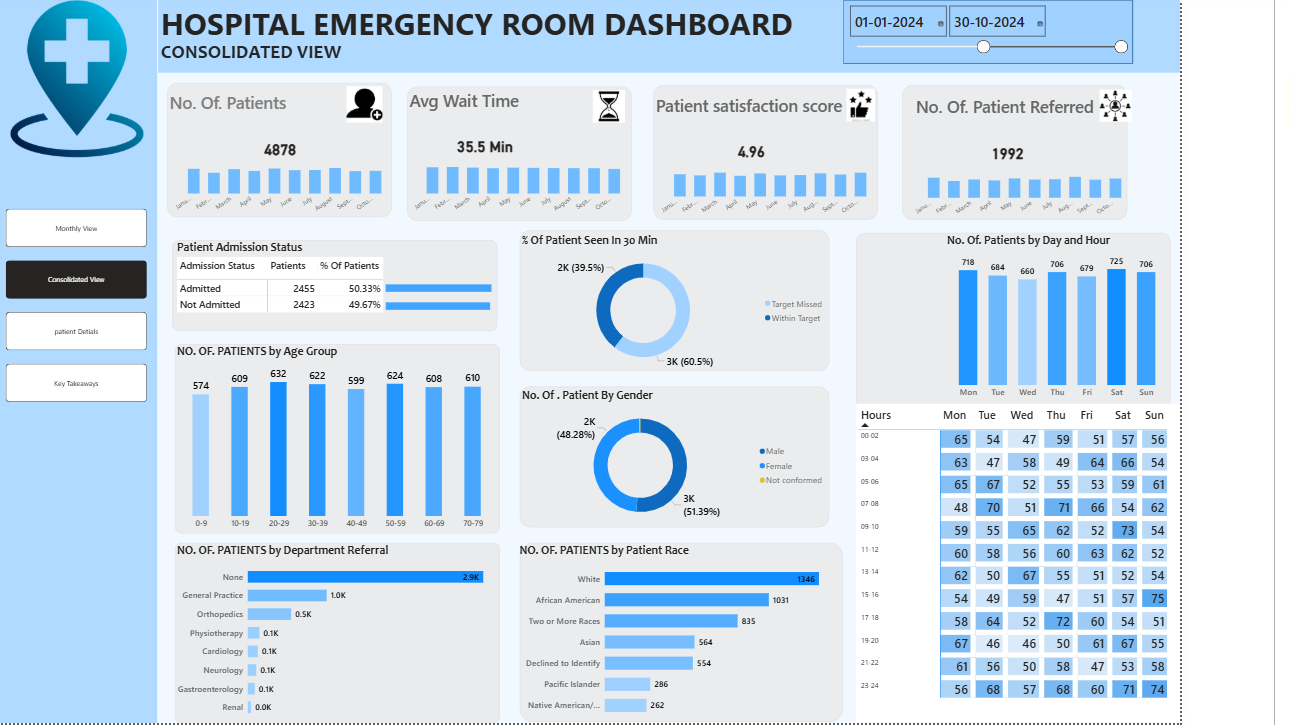

What the dashboard file says about the page in this screenshot:
{"tool":"powerbi","page":{"name":"Consolidated View","canvas":[2300,1400],"ordinal":1},"visuals":[{"type":"shape","box":[1671.4,449.9,609.5,948.2],"z":0},{"type":"shape","box":[1020.7,747.4,599.9,273.3],"z":1000},{"type":"shape","box":[348.3,464.4,630,177],"z":2000},{"type":"pivotTable","title":"Patient Admission Status","fields":{"Rows":["Hospital ER_Data.Admission Status"],"Values":["Hospital ER_Data.NO. OF. PATIENTS1","Hospital ER_Data.NO. OF. PATIENTS"]},"box":[352.5,465,625,177.5],"z":3000},{"type":"shape","box":[338.6,159.6,435.4,261.2],"z":4000},{"type":"shape","box":[9.9,0,310,1399],"z":5000},{"type":"shape","box":[320.5,0,1980,140.5],"z":6000},{"type":"textbox","box":[320.5,0,1260,91.2],"z":7000},{"type":"textbox","box":[320.5,71.5,364.9,69],"z":8000},{"type":"card","fields":{"Values":["Hospital ER_Data.NO. OF. PATIENTS"]},"box":[454.7,229.8,205.6,116.1],"z":9000},{"type":"slicer","fields":{"Values":["Date Table.Date"]},"box":[1647.1,0,559.7,123.3],"z":10000},{"type":"textbox","box":[338.6,171.7,256.4,58.1],"z":11000},{"type":"columnChart","fields":{"Y":["Hospital ER_Data.NO. OF. PATIENTS"],"Category":["Date Table.Month Name"]},"box":[337.8,305.7,436.4,115.9],"z":12000},{"type":"shape","box":[803,166.9,435.4,261.2],"z":13000},{"type":"card","fields":{"Values":["Date Table.Avg Wait Time"]},"box":[849,224.9,210.4,116.1],"z":14000},{"type":"textbox","box":[802.2,166.8,256.4,58.1],"z":15000},{"type":"columnChart","fields":{"Category":["Date Table.Month Name"],"Y":["Avg(Hospital ER_Data.Patient Waittime)"]},"box":[801.4,305.7,436.4,115.9],"z":16000},{"type":"shape","box":[1760.5,165.2,436.4,261.4],"z":17000},{"type":"shape","box":[1279.6,164.5,435.4,261.2],"z":18000},{"type":"card","fields":{"Values":["Date Table.Patient Satisfaction Score"]},"box":[1364.2,234.6,210.4,116.1],"z":19000},{"type":"textbox","box":[1279.6,176.6,391.8,58.1],"z":20000},{"type":"columnChart","fields":{"Y":["Date Table.Satisfaction Score"],"Category":["Date Table.Month Name"]},"box":[1279.7,315.6,434,111],"z":21000},{"type":"card","fields":{"Values":["Date Table.No. Of.Patient Referred"]},"box":[1859.3,236.7,210.4,116.1],"z":22000},{"type":"textbox","box":[1782.7,179,360.4,58.1],"z":23000},{"type":"columnChart","fields":{"Category":["Date Table.Month Name"],"Y":["Date Table.No. Of.Patient Referred"]},"box":[1770.4,315.6,436.4,113.4],"z":24000},{"type":"barChart","fields":{"Category":["Hospital ER_Data.Admission Status"],"Y":["Hospital ER_Data.NO. OF. PATIENTS"]},"box":[757.5,520,260,105],"z":25000},{"type":"shape","box":[352.5,665,630,367.5],"z":26000},{"type":"clusteredColumnChart","fields":{"Category":["Hospital ER_Data.Age Group"],"Y":["Hospital ER_Data.NO. OF. PATIENTS"]},"box":[352.5,665,630,367.5],"z":27000},{"type":"donutChart","title":"No. Of . Patient By Gender","fields":{"Y":["Hospital ER_Data.NO. OF. PATIENTS"],"Category":["Hospital ER_Data.Patient Gender"]},"box":[1020.7,749.8,599.9,273.3],"z":28000},{"type":"shape","box":[352.5,1050,630,350],"z":29000},{"type":"clusteredBarChart","fields":{"Category":["Hospital ER_Data.Department Referral"],"Y":["Hospital ER_Data.NO. OF. PATIENTS"]},"box":[353.1,1049.8,628.9,350.7],"z":30000},{"type":"shape","box":[1020.7,445.1,599.9,273.3],"z":31000},{"type":"donutChart","title":"% Of Patient Seen In 30 Min","fields":{"Category":["Hospital ER_Data.Waittime Status"],"Y":["Hospital ER_Data.NO. OF. PATIENTS"]},"box":[1020.7,449.9,599.9,273.3],"z":32000},{"type":"shape","box":[1020.7,1049.8,626.5,348.3],"z":33000},{"type":"clusteredBarChart","fields":{"Y":["Hospital ER_Data.NO. OF. PATIENTS"],"Category":["Hospital ER_Data.Patient Race"]},"box":[1015.9,1049.8,628.9,350.7],"z":34000},{"type":"pivotTable","fields":{"Rows":["Hospital ER_Data.Waittime Interval"],"Columns":["Date Table.Day Name"],"Values":["Hospital ER_Data.NO. OF. PATIENTS"]},"box":[1671.4,781.3,628.9,616.8],"z":35000},{"type":"columnChart","title":"No. Of. Patients by Day and Hour","fields":{"Category":["Date Table.Day Name"],"Y":["Hospital ER_Data.NO. OF. PATIENTS"]},"box":[1843.1,449.9,437.8,331.4],"z":36000},{"type":"image","box":[2143.1,171.7,62.9,65.3],"z":37000},{"type":"image","box":[1647.2,171.7,67.7,62.9],"z":38000},{"type":"image","box":[1148.9,174.2,89.5,62.9],"z":39000},{"type":"image","box":[667.6,166.9,106.4,70.1],"z":40000},{"type":"image","box":[9.7,0,309.6,304.8],"z":41000},{"type":"pageNavigator","box":[27.1,404.4,273.7,377.3],"z":42000}]}

Visuals, with their boxes on the page's 2300x1400 design canvas (x1, y1, x2, y2). These are canvas units, not pixel positions in the 1289x725 screenshot, which may show the page scaled, cropped or inside an application window:
shape: 1671, 450, 2281, 1398
shape: 1021, 747, 1621, 1021
shape: 348, 464, 978, 641
"Patient Admission Status" pivotTable: 352, 465, 978, 642
shape: 339, 160, 774, 421
shape: 10, 0, 320, 1399
shape: 320, 0, 2300, 140
textbox: 320, 0, 1580, 91
textbox: 320, 72, 685, 140
card - Hospital ER_Data.NO. OF. PATIENTS: 455, 230, 660, 346
slicer - Date Table.Date: 1647, 0, 2207, 123
textbox: 339, 172, 595, 230
columnChart - Hospital ER_Data.NO. OF. PATIENTS x Date Table.Month Name: 338, 306, 774, 422
shape: 803, 167, 1238, 428
card - Date Table.Avg Wait Time: 849, 225, 1059, 341
textbox: 802, 167, 1059, 225
columnChart - Date Table.Month Name x Avg(Hospital ER_Data.Patient Waittime): 801, 306, 1238, 422
shape: 1760, 165, 2197, 427
shape: 1280, 164, 1715, 426
card - Date Table.Patient Satisfaction Score: 1364, 235, 1575, 351
textbox: 1280, 177, 1671, 235
columnChart - Date Table.Satisfaction Score x Date Table.Month Name: 1280, 316, 1714, 427
card - Date Table.No. Of.Patient Referred: 1859, 237, 2070, 353
textbox: 1783, 179, 2143, 237
columnChart - Date Table.Month Name x Date Table.No. Of.Patient Referred: 1770, 316, 2207, 429
barChart - Hospital ER_Data.Admission Status x Hospital ER_Data.NO. OF. PATIENTS: 758, 520, 1018, 625
shape: 352, 665, 982, 1032
clusteredColumnChart - Hospital ER_Data.Age Group x Hospital ER_Data.NO. OF. PATIENTS: 352, 665, 982, 1032
"No. Of . Patient By Gender" donutChart: 1021, 750, 1621, 1023
shape: 352, 1050, 982, 1400
clusteredBarChart - Hospital ER_Data.Department Referral x Hospital ER_Data.NO. OF. PATIENTS: 353, 1050, 982, 1400
shape: 1021, 445, 1621, 718
"% Of Patient Seen In 30 Min" donutChart: 1021, 450, 1621, 723
shape: 1021, 1050, 1647, 1398
clusteredBarChart - Hospital ER_Data.NO. OF. PATIENTS x Hospital ER_Data.Patient Race: 1016, 1050, 1645, 1400
pivotTable - Hospital ER_Data.Waittime Interval x Date Table.Day Name: 1671, 781, 2300, 1398
"No. Of. Patients by Day and Hour" columnChart: 1843, 450, 2281, 781
image: 2143, 172, 2206, 237
image: 1647, 172, 1715, 235
image: 1149, 174, 1238, 237
image: 668, 167, 774, 237
image: 10, 0, 319, 305
pageNavigator: 27, 404, 301, 782
